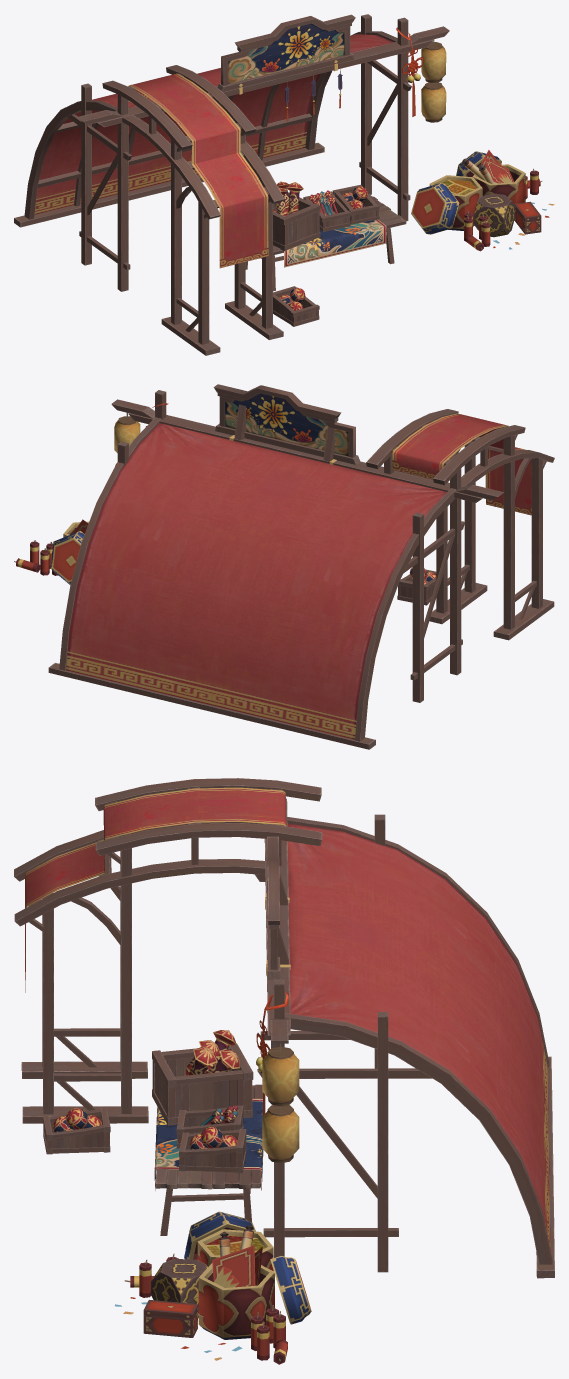
File: Homeworld_Exterior_Ly_Build_LanternRiteBigVendor_01_Lod0.fbx
The picture shows the model from 3 angles, top to bottom: view 1: azimuth 30°, elevation 25°; view 2: azimuth 150°, elevation 25°; view 3: azimuth 270°, elevation 25°; orthographic projection. The views are drawn at different scales.
Parts seen in each view (by area): view 1: Area_Ly_Prop_LYG_Hdj_Tanwei_01_Lod0, Area_Ly_Prop_LYG_Common_Gift_02_Lod0, Area_Ly_Prop_LYG_Hdj_Table_01_Vo, Area_Ly_Prop_LYG_Hdj_Case_02_Vo (×2), Area_Ly_Prop_LYG_Hdj_Case_03_Vo, Area_Ly_Prop_LYG_Hdj_Case_01_Vo; view 2: Area_Ly_Prop_LYG_Hdj_Tanwei_01_Lod0, Area_Ly_Prop_LYG_Common_Gift_02_Lod0, Area_Ly_Prop_LYG_Hdj_Case_02_Vo; view 3: Area_Ly_Prop_LYG_Hdj_Tanwei_01_Lod0, Area_Ly_Prop_LYG_Common_Gift_02_Lod0, Area_Ly_Prop_LYG_Hdj_Case_03_Vo, Area_Ly_Prop_LYG_Hdj_Case_02_Vo (×2), Area_Ly_Prop_LYG_Hdj_Table_01_Vo, Area_Ly_Prop_LYG_Hdj_Case_01_Vo.
Part boxes in pixels (bbox=[...]): Area_Ly_Prop_LYG_Hdj_Tanwei_01_Lod0: bbox=[14, 14, 449, 355]; Area_Ly_Prop_LYG_Common_Gift_02_Lod0: bbox=[411, 150, 554, 251]; Area_Ly_Prop_LYG_Hdj_Table_01_Vo: bbox=[245, 194, 406, 291]; Area_Ly_Prop_LYG_Hdj_Case_02_Vo (×2): bbox=[273, 184, 379, 326]; Area_Ly_Prop_LYG_Hdj_Case_03_Vo: bbox=[273, 181, 320, 250]; Area_Ly_Prop_LYG_Hdj_Case_01_Vo: bbox=[303, 190, 350, 231]; Area_Ly_Prop_LYG_Hdj_Tanwei_01_Lod0: bbox=[48, 384, 554, 749]; Area_Ly_Prop_LYG_Common_Gift_02_Lod0: bbox=[14, 519, 89, 584]; Area_Ly_Prop_LYG_Hdj_Case_02_Vo: bbox=[397, 567, 436, 605]; Area_Ly_Prop_LYG_Hdj_Tanwei_01_Lod0: bbox=[14, 778, 554, 1278]; Area_Ly_Prop_LYG_Common_Gift_02_Lod0: bbox=[115, 1211, 311, 1364]; Area_Ly_Prop_LYG_Hdj_Case_03_Vo: bbox=[152, 1030, 253, 1125]; Area_Ly_Prop_LYG_Hdj_Case_02_Vo (×2): bbox=[43, 1108, 246, 1173]; Area_Ly_Prop_LYG_Hdj_Table_01_Vo: bbox=[154, 1084, 263, 1235]; Area_Ly_Prop_LYG_Hdj_Case_01_Vo: bbox=[176, 1105, 243, 1148].
Bounding box in the file's own units: 9.24 × 4.33 × 6.49.
